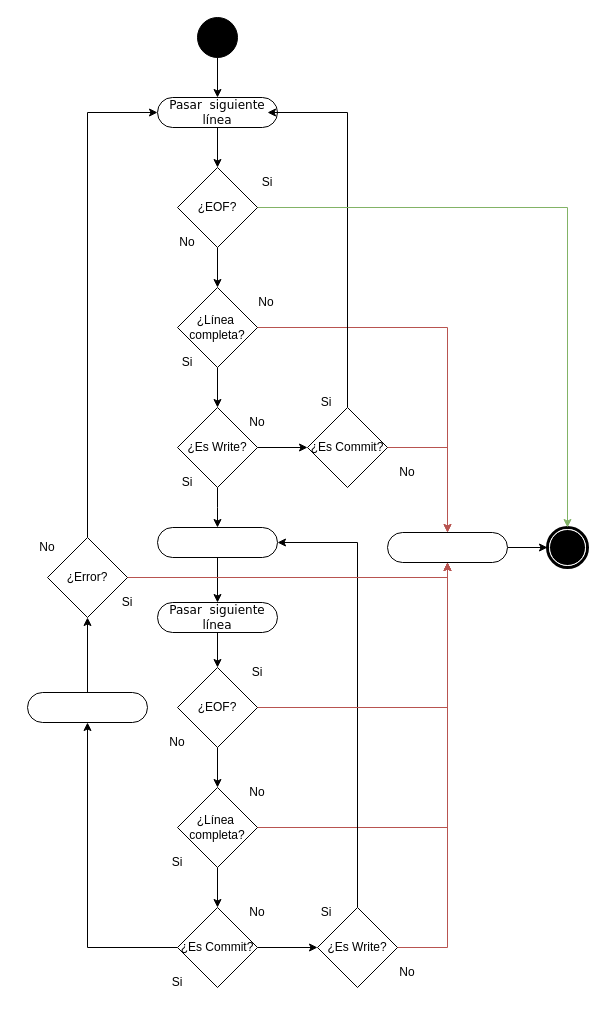
Some shapes in this 605 by 1015 pixel diagram are drawn without their labels. The shapes that lost their labels are listed below. From the top down, each one's centre as x and y in pixels, then its label:
At (217,542): "Agregar a pendientes".
At (447,547): "Truncar archivo".
At (87,707): "Actualizar lineas pendientes".
